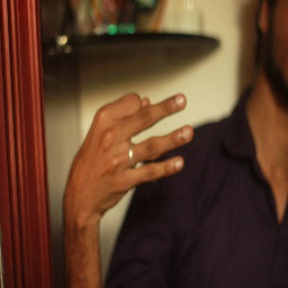K: (64, 90, 205, 203)
